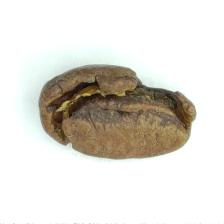NG: (40, 65, 197, 147)
